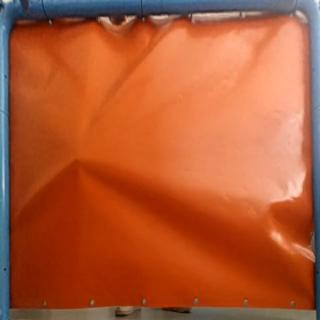Hit-hRxx: (68, 154, 83, 167)
